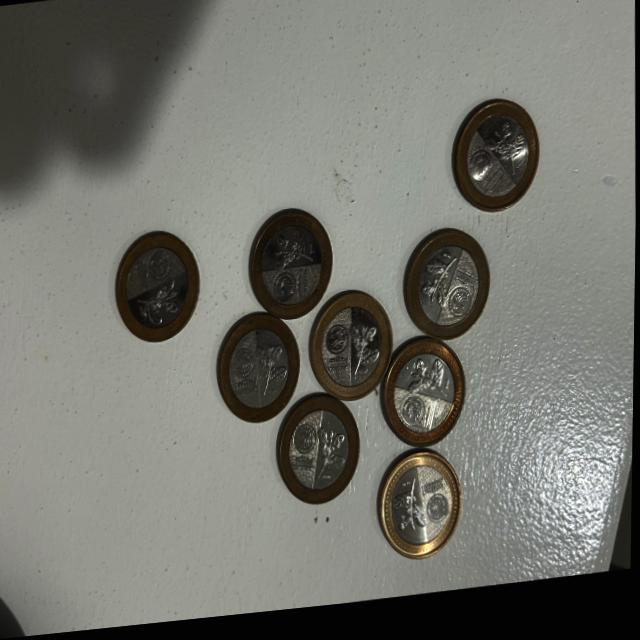20_New_Back: (391, 482, 427, 548), (346, 322, 381, 387), (488, 128, 526, 184), (267, 230, 313, 276), (254, 343, 289, 402), (408, 363, 447, 415), (139, 282, 182, 328), (420, 262, 456, 314), (314, 431, 347, 486)
